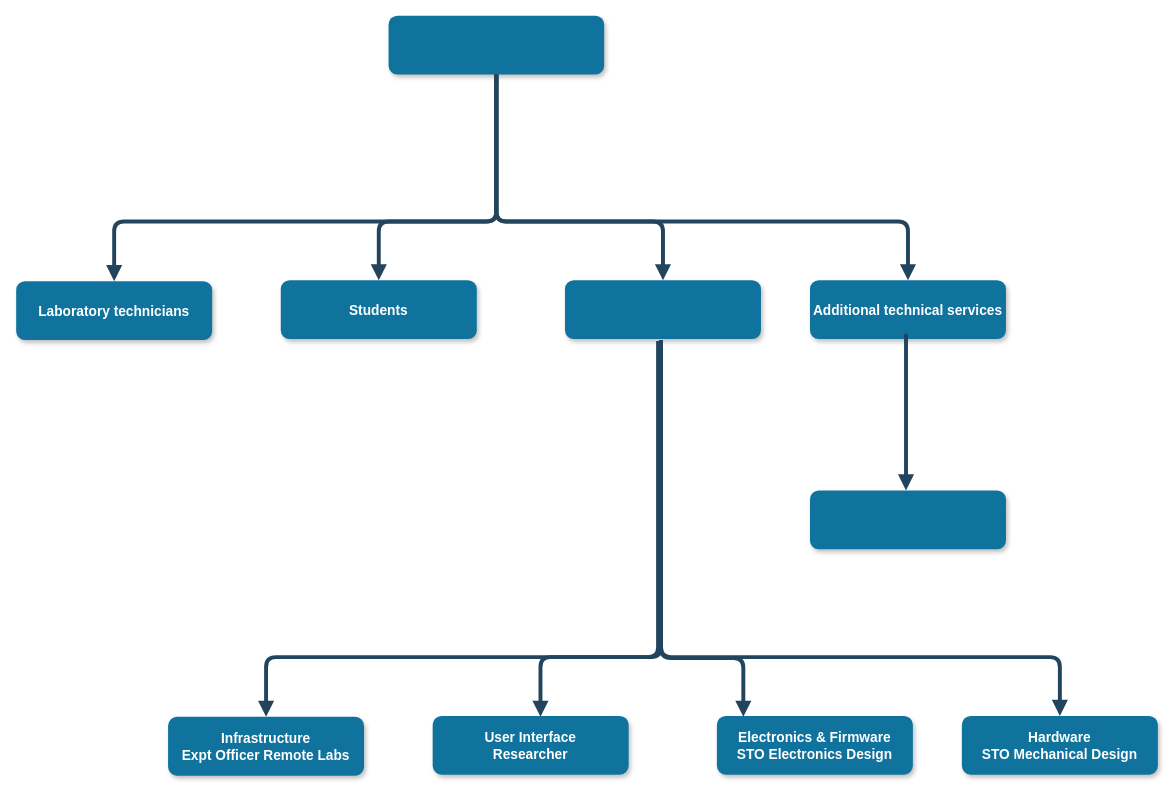
The diagram is 1174 pixels wide and 792 high, and some of its shapes have lost their labels. The shapes that lost their labels are listed below. From the top down, each one's centre as x and y in pixels, then its label:
pixel 497 46: Chemical Engineering Lab responsible person
pixel 663 310: Remote labs Lead
pixel 908 521: Electrical wiring
